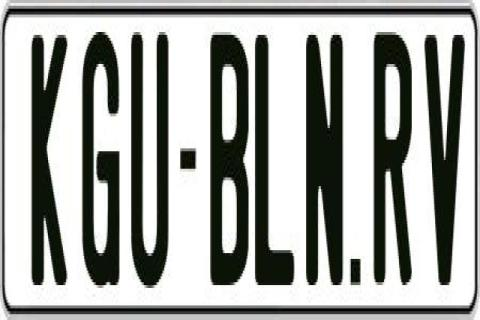B: (209, 32, 252, 291)
G: (82, 29, 122, 291)
K: (30, 26, 68, 288)
L: (255, 29, 299, 279)
N: (303, 32, 341, 300)
R: (375, 32, 413, 300)
U: (131, 32, 175, 291)
V: (422, 29, 460, 282)
